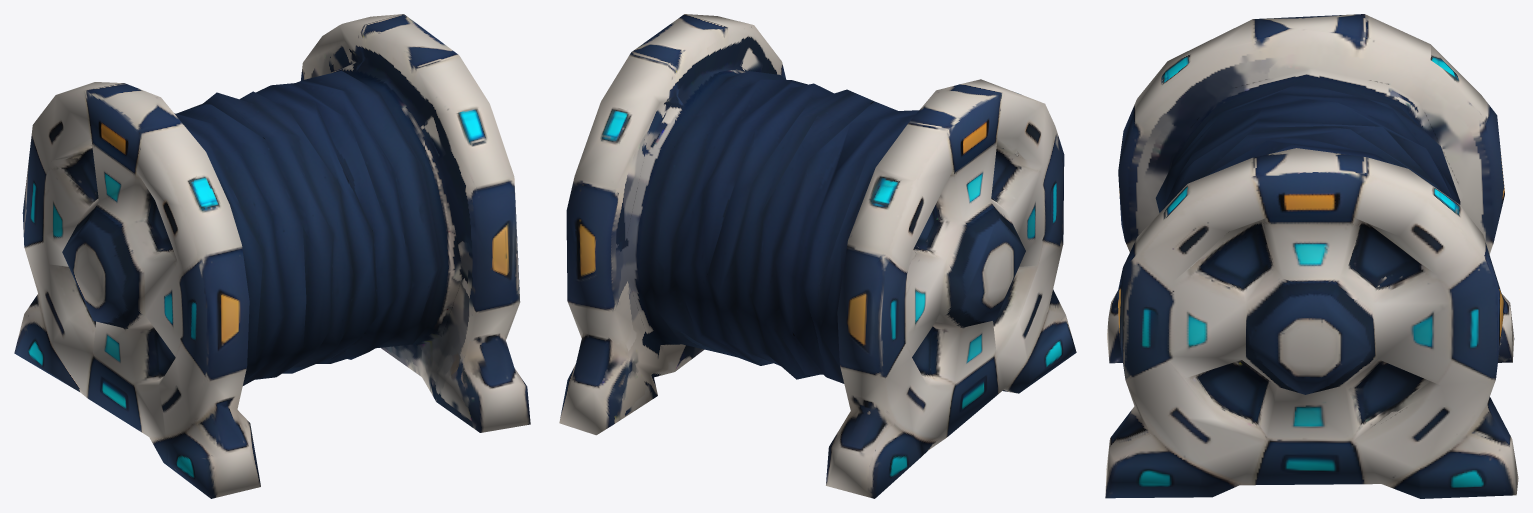
The model's file is industrial-cable-spool_LOD2.glb.
3 views of the same model, side by side, from view 1: azimuth 30°, elevation 25°; view 2: azimuth 150°, elevation 25°; view 3: azimuth 270°, elevation 25° (orthographic). The views are drawn at different scales.
Visible parts, largest first — view 1: industrial-cable-spool_LOD2; view 2: industrial-cable-spool_LOD2; view 3: industrial-cable-spool_LOD2.
Boxes of the visible parts, x1,y1,x2,y2 form: industrial-cable-spool_LOD2: (14,14,530,498); industrial-cable-spool_LOD2: (559,14,1076,498); industrial-cable-spool_LOD2: (1105,14,1518,498).
Bounding box in the file's own units: 1.3 × 1.1 × 1.24.
1 material, 1 textured.
